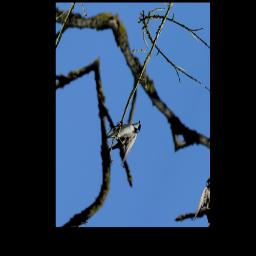Swallow: (99, 103, 144, 169)
